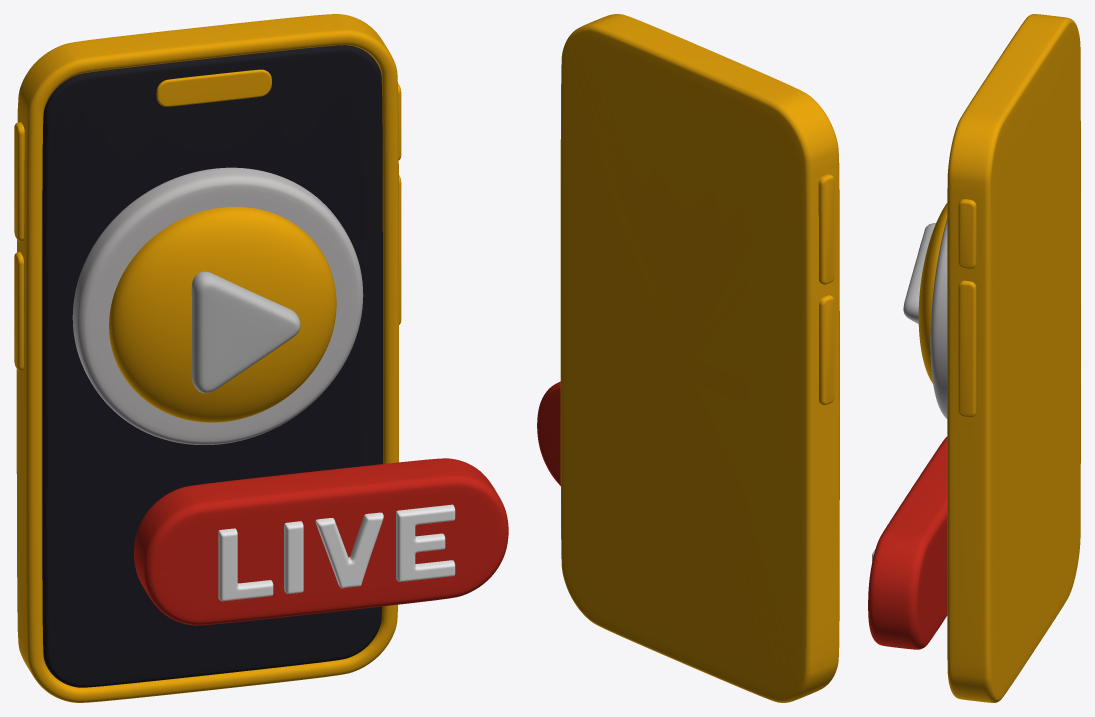
The model's file is mobile-streaming-animated-3d-icon-618173357628.glb.
3 renders of one model, left to right at view 1: azimuth 30°, elevation 25°; view 2: azimuth 150°, elevation 25°; view 3: azimuth 270°, elevation 25°, orthographic. The views are drawn at different scales.
Parts seen in each view (by area): view 1: Screen, Plane.002, Case, Sphere.001, Base, Text Live, Play Button.001, Buttons, Info Bar; view 2: Case, Buttons, Plane.002; view 3: Case, Plane.002, Buttons, Base, Sphere.001, Play Button.001.
Boxes of the visible parts, left/top/right/bottom form: Screen: left=42, top=45, right=382, bottom=687; Plane.002: left=134, top=458, right=508, bottom=625; Case: left=16, top=14, right=398, bottom=702; Sphere.001: left=109, top=207, right=336, bottom=422; Base: left=72, top=167, right=363, bottom=444; Text Live: left=218, top=504, right=455, bottom=601; Play Button.001: left=191, top=271, right=300, bottom=393; Buttons: left=14, top=83, right=401, bottom=370; Info Bar: left=156, top=69, right=271, bottom=106; Case: left=560, top=14, right=839, bottom=702; Buttons: left=818, top=174, right=834, bottom=405; Plane.002: left=537, top=381, right=560, bottom=485; Case: left=947, top=14, right=1080, bottom=702; Plane.002: left=868, top=436, right=947, bottom=649; Buttons: left=958, top=199, right=976, bottom=417; Base: left=930, top=218, right=947, bottom=418; Sphere.001: left=918, top=203, right=947, bottom=383; Play Button.001: left=903, top=223, right=935, bottom=323.
Bounding box in the file's own units: 1.45 × 2.24 × 0.7426.
